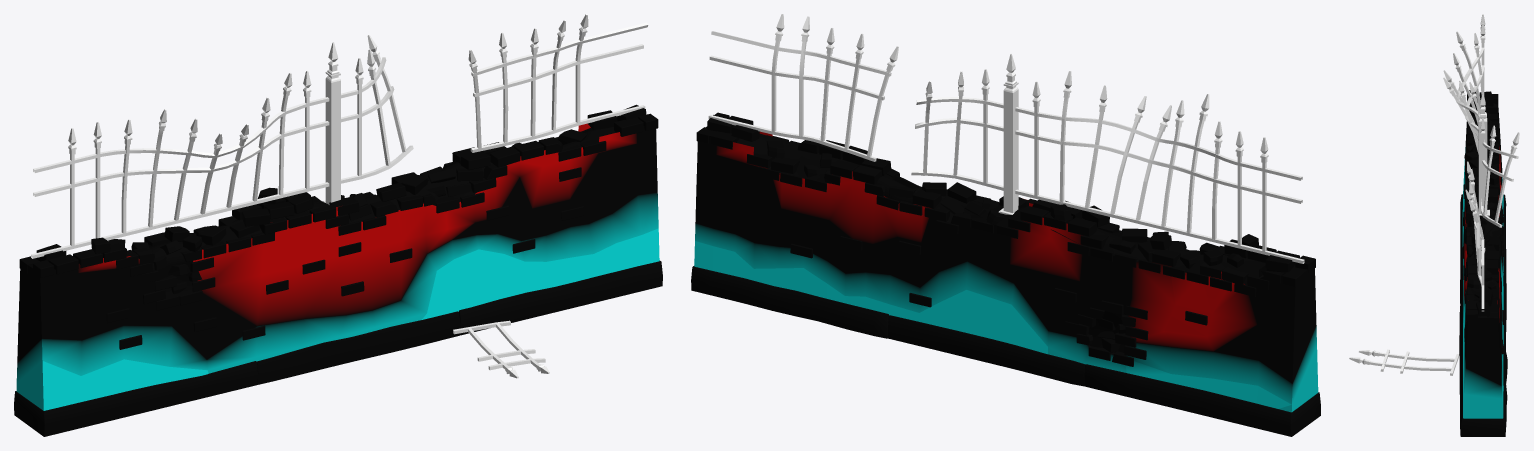
File: Com_Fence2.fbx
The picture shows the model from 3 angles, left to right: view 1: azimuth 30°, elevation 25°; view 2: azimuth 150°, elevation 25°; view 3: azimuth 270°, elevation 25°; orthographic projection. The views are drawn at different scales.
Visible parts, largest first — view 1: SM_COM_Fence02.mo; view 2: SM_COM_Fence02.mo; view 3: SM_COM_Fence02.mo.
Part boxes in pixels (bbox=[...]): SM_COM_Fence02.mo: bbox=[14, 14, 662, 436]; SM_COM_Fence02.mo: bbox=[691, 14, 1320, 436]; SM_COM_Fence02.mo: bbox=[1349, 14, 1519, 436].
Bounding box in the file's own units: 821 × 392 × 263.
